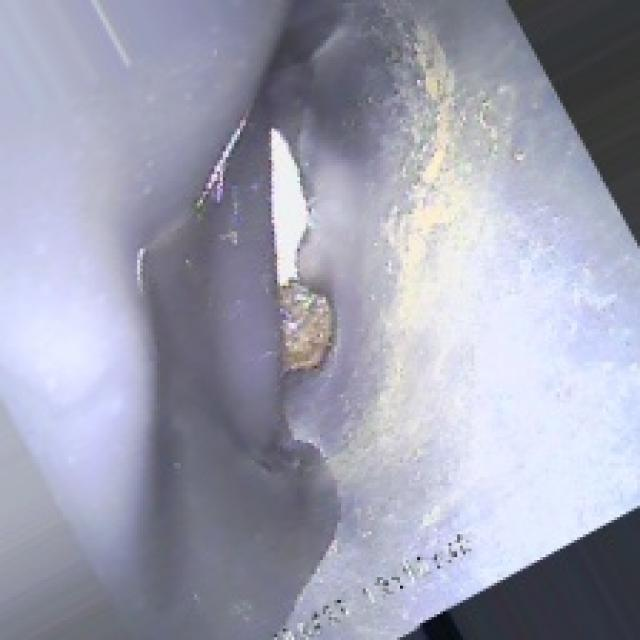shape_deformation: (49, 60, 532, 486)
